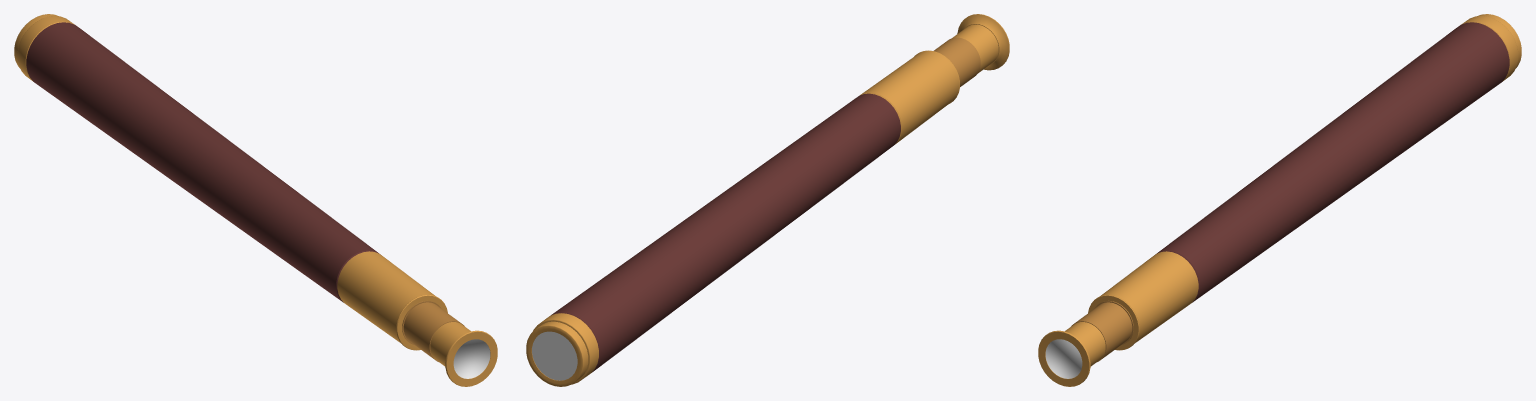
Rendered from telescope3.fbx.
3 views of the same model, side by side, from view 1: azimuth 30°, elevation 25°; view 2: azimuth 150°, elevation 25°; view 3: azimuth 330°, elevation 25° (orthographic).
Visible parts, largest first — view 1: Cylinder, Cylinder.002; view 2: Cylinder, Cylinder.002; view 3: Cylinder, Cylinder.002.
Boxes of the visible parts, x1,y1,x2,y2 form: Cylinder: (14, 14, 447, 350); Cylinder.002: (402, 300, 497, 386); Cylinder: (526, 50, 959, 386); Cylinder.002: (934, 14, 1009, 86); Cylinder: (1088, 14, 1521, 350); Cylinder.002: (1038, 300, 1133, 386).
Size of the model in its own units: 2.46 by 2.47 by 29.95.
